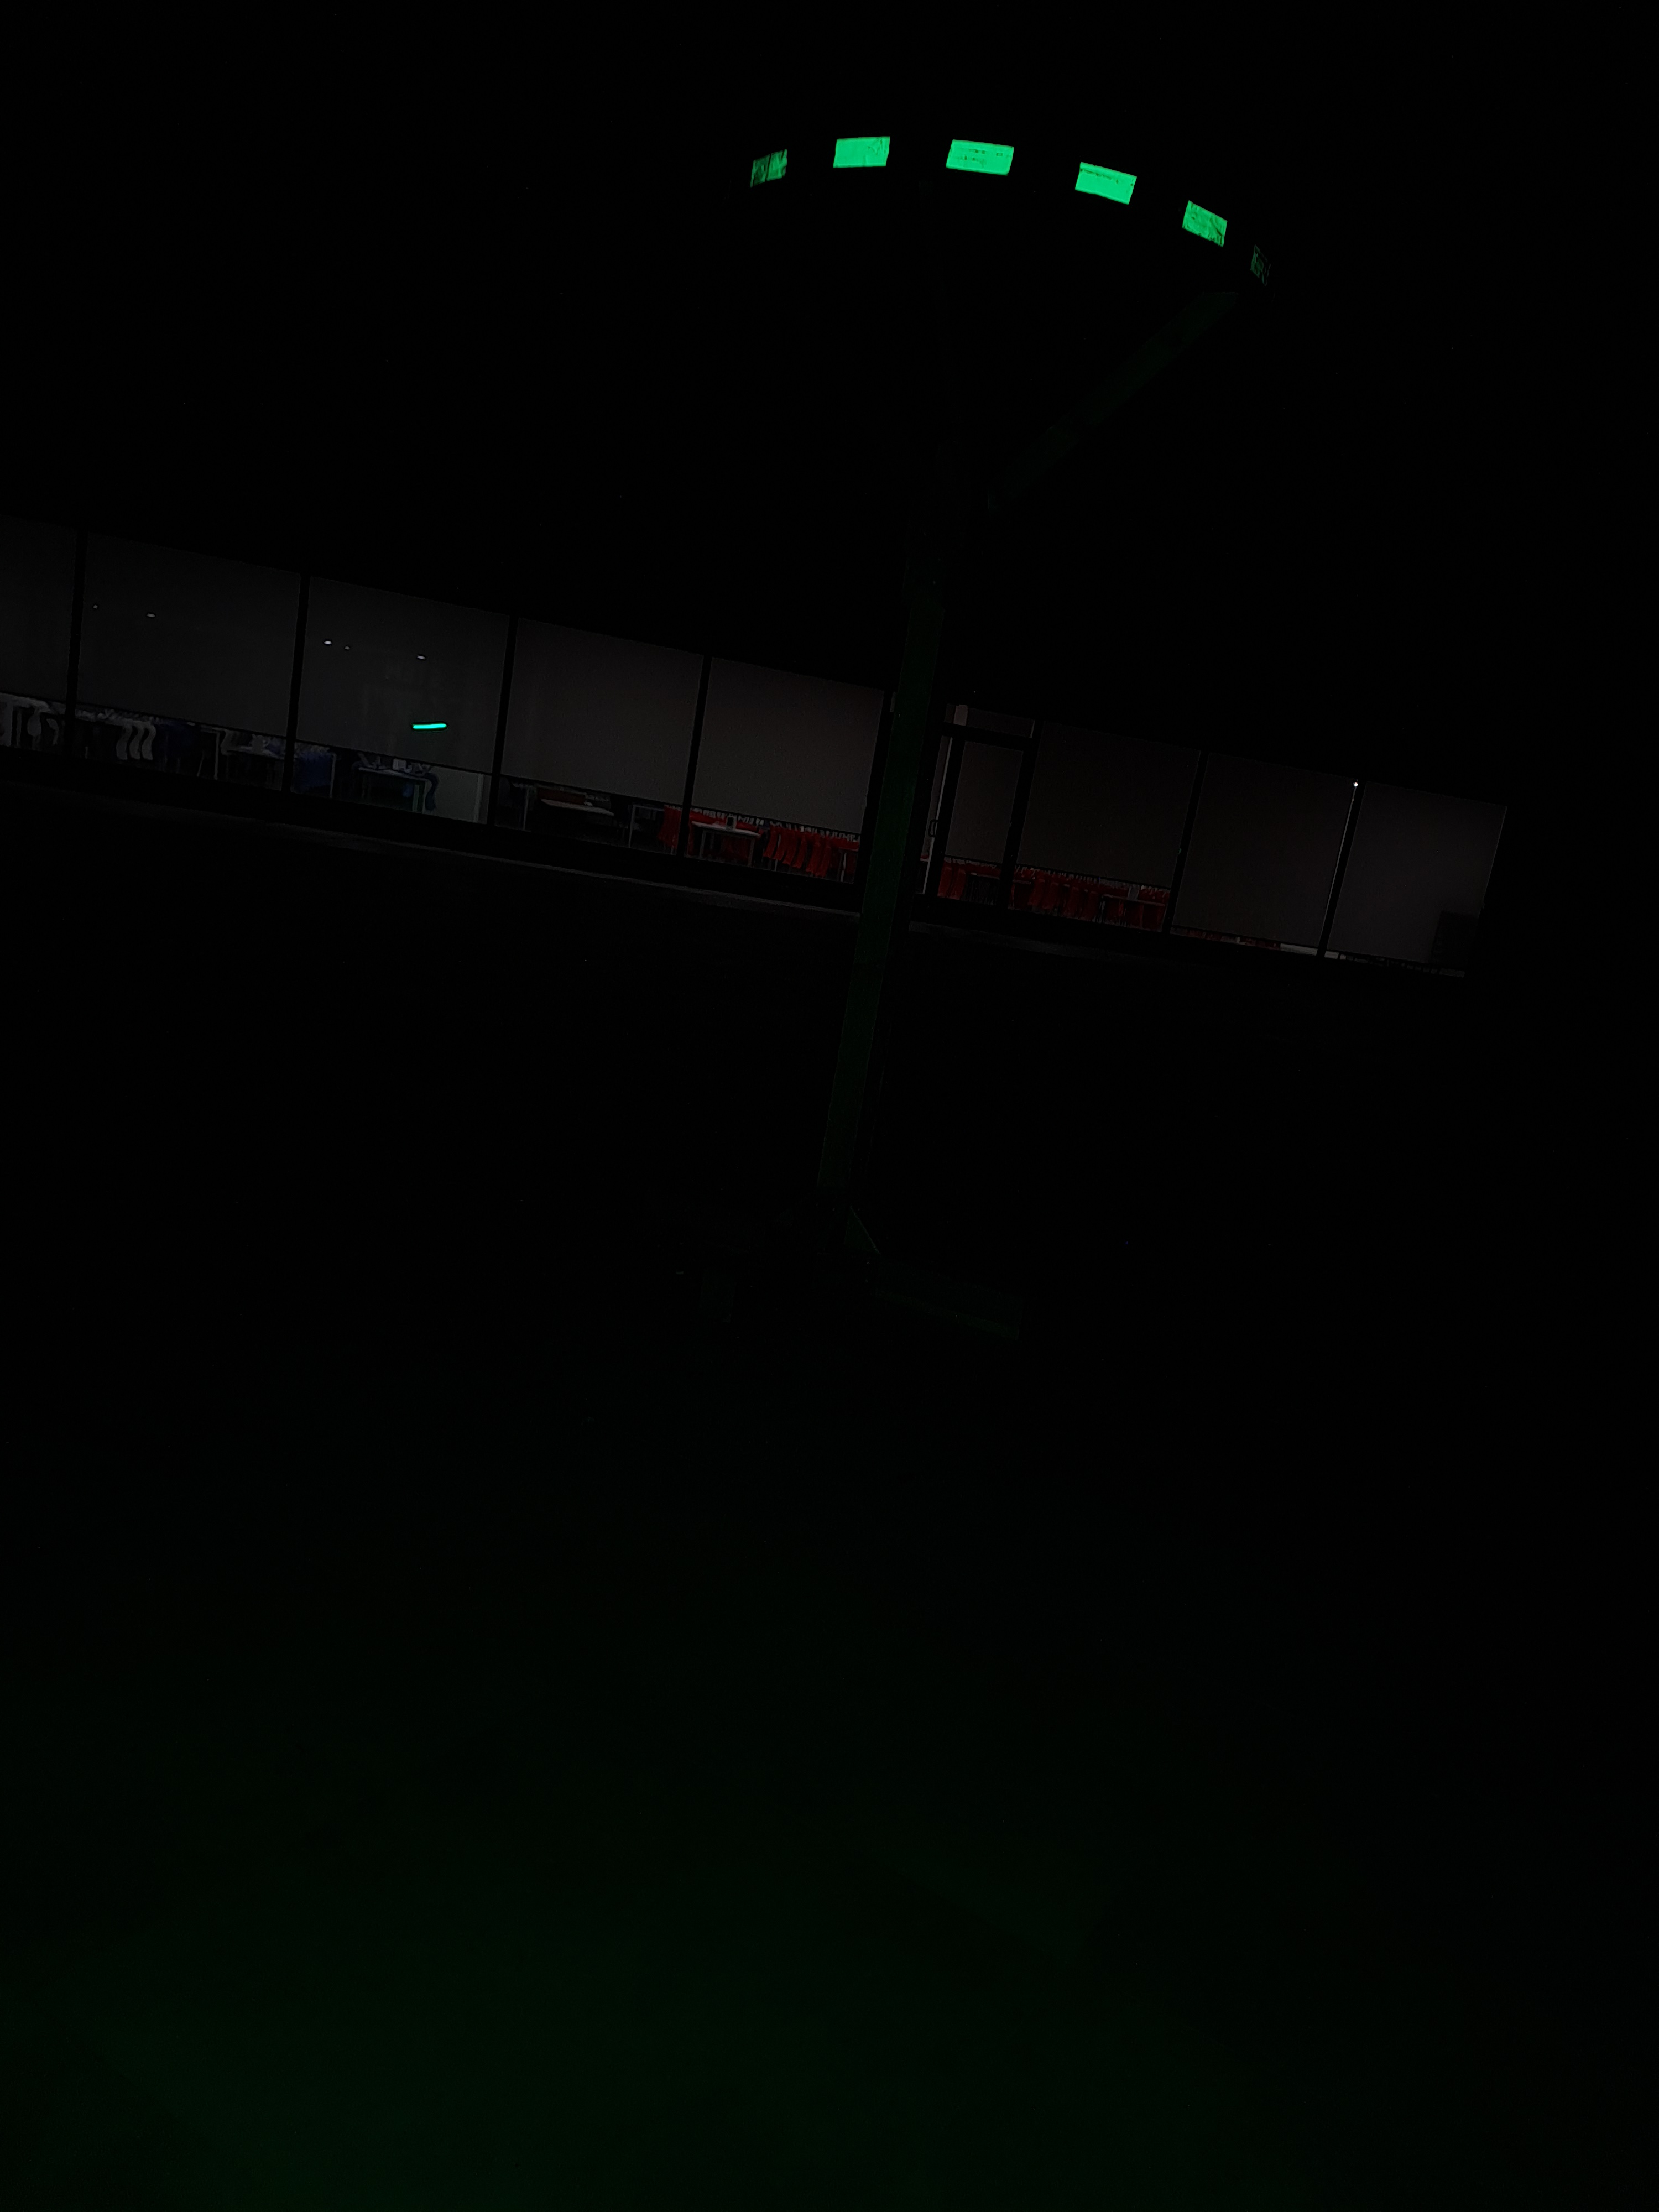hoop: (739, 132, 1237, 256)
